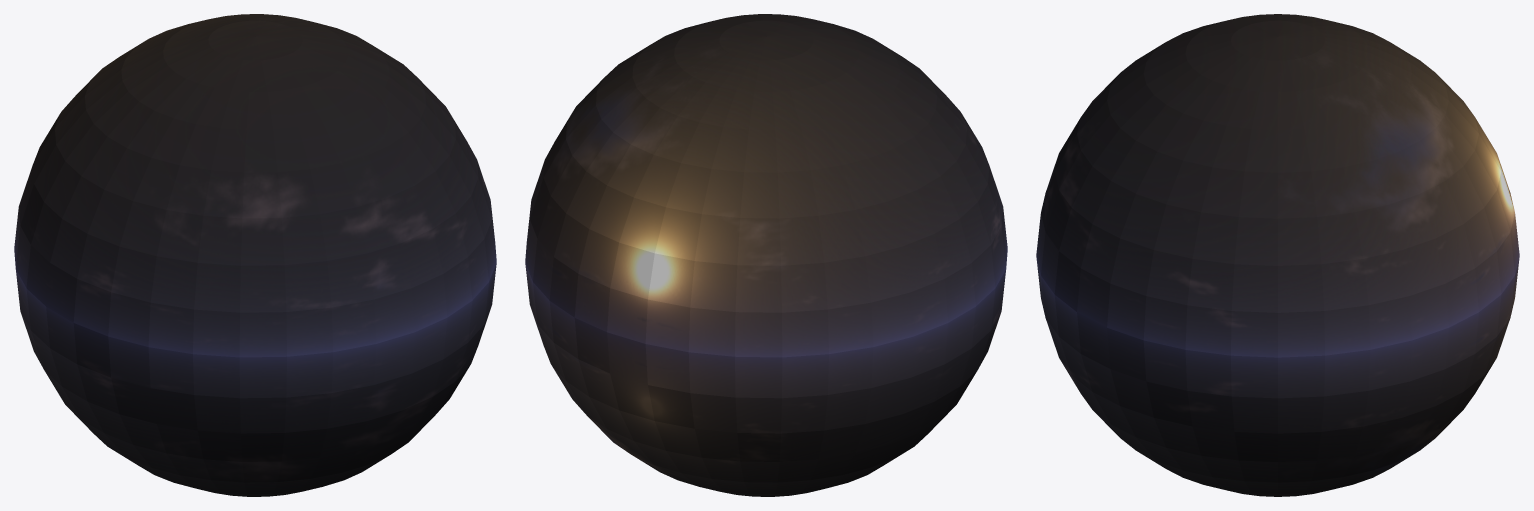
File: stage06.glb
3 views of the same model, side by side, from view 1: azimuth 30°, elevation 25°; view 2: azimuth 150°, elevation 25°; view 3: azimuth 270°, elevation 25° (orthographic).
Visible parts, largest first — view 1: Sphere; view 2: Sphere; view 3: Sphere.
Part boxes in pixels (bbox=[...]): Sphere: bbox=[14, 14, 496, 496]; Sphere: bbox=[525, 14, 1007, 496]; Sphere: bbox=[1036, 14, 1519, 496].
Size of the model in its own units: 1000 by 1000 by 1000.
Materials: 9 (5 with a texture image).
